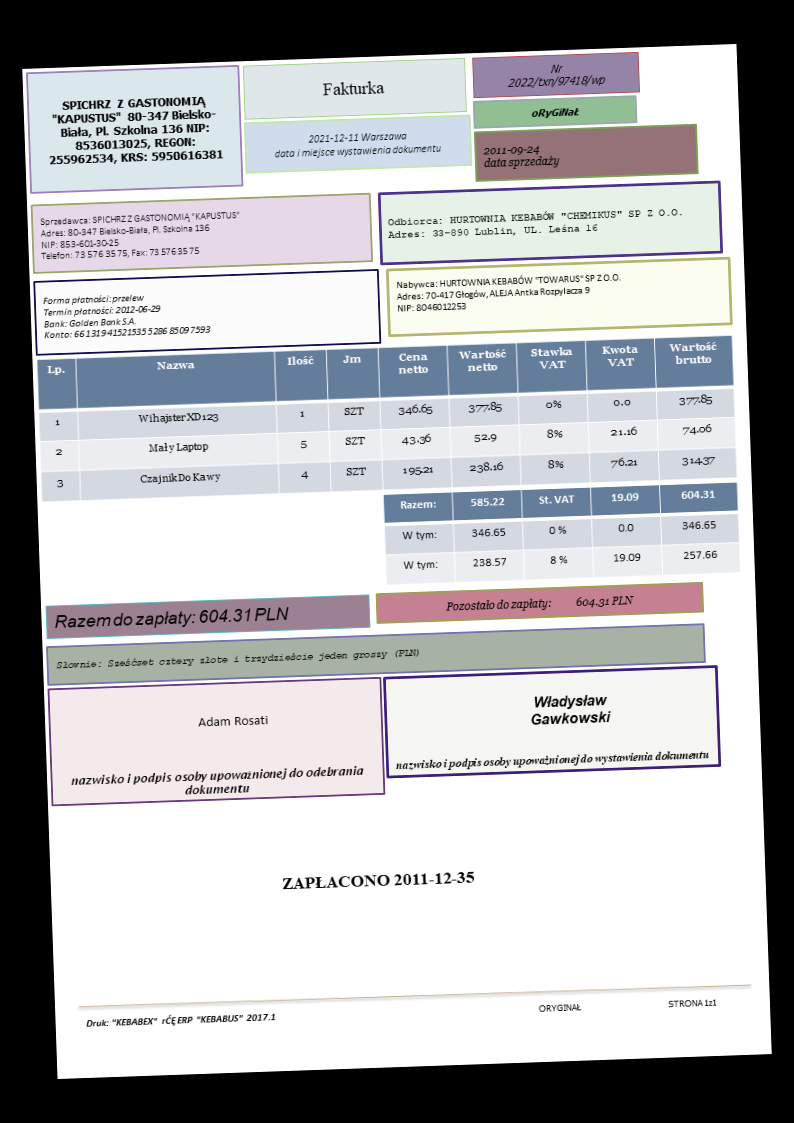Table: (36, 335, 737, 503), (383, 482, 741, 586)
TextBox: (44, 93, 225, 167), (386, 204, 685, 242), (68, 763, 365, 800), (38, 209, 243, 262), (393, 271, 624, 314), (54, 646, 423, 672), (41, 289, 213, 341), (393, 747, 711, 775), (50, 604, 294, 633), (270, 128, 443, 161), (279, 867, 479, 893), (442, 592, 635, 615), (83, 1010, 278, 1030), (503, 59, 607, 93), (529, 690, 613, 728), (481, 144, 562, 173), (320, 79, 386, 99), (194, 713, 269, 729), (528, 104, 581, 121), (665, 997, 718, 1011), (536, 1001, 582, 1015)
